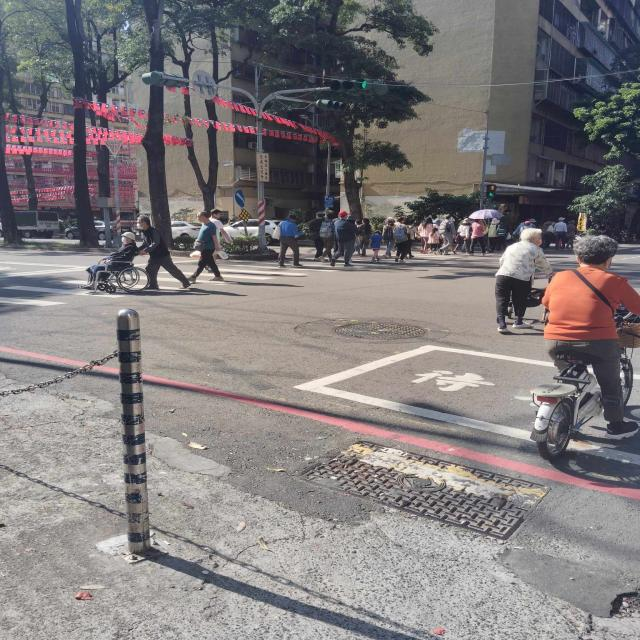person: (543, 235, 639, 439), (495, 228, 553, 332), (138, 215, 191, 290), (81, 232, 138, 289), (189, 211, 222, 280), (330, 211, 357, 268), (279, 214, 302, 268), (393, 221, 413, 264), (319, 212, 335, 261), (309, 211, 325, 259), (211, 209, 232, 244), (438, 215, 455, 255), (468, 219, 486, 255), (417, 216, 433, 254), (488, 219, 506, 252), (357, 218, 372, 256), (382, 218, 395, 259), (455, 219, 471, 252), (554, 218, 568, 248), (370, 230, 382, 262), (428, 228, 440, 252)
zebra crossing: (1, 250, 481, 306)
